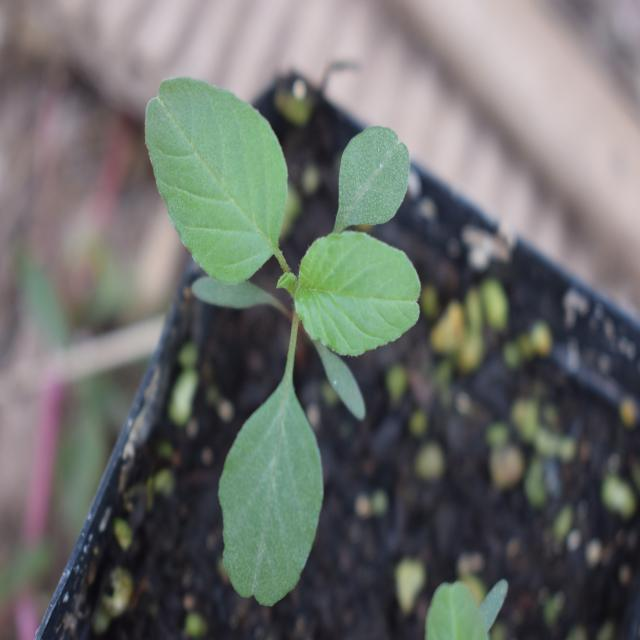pigweed: (127, 59, 450, 560)
